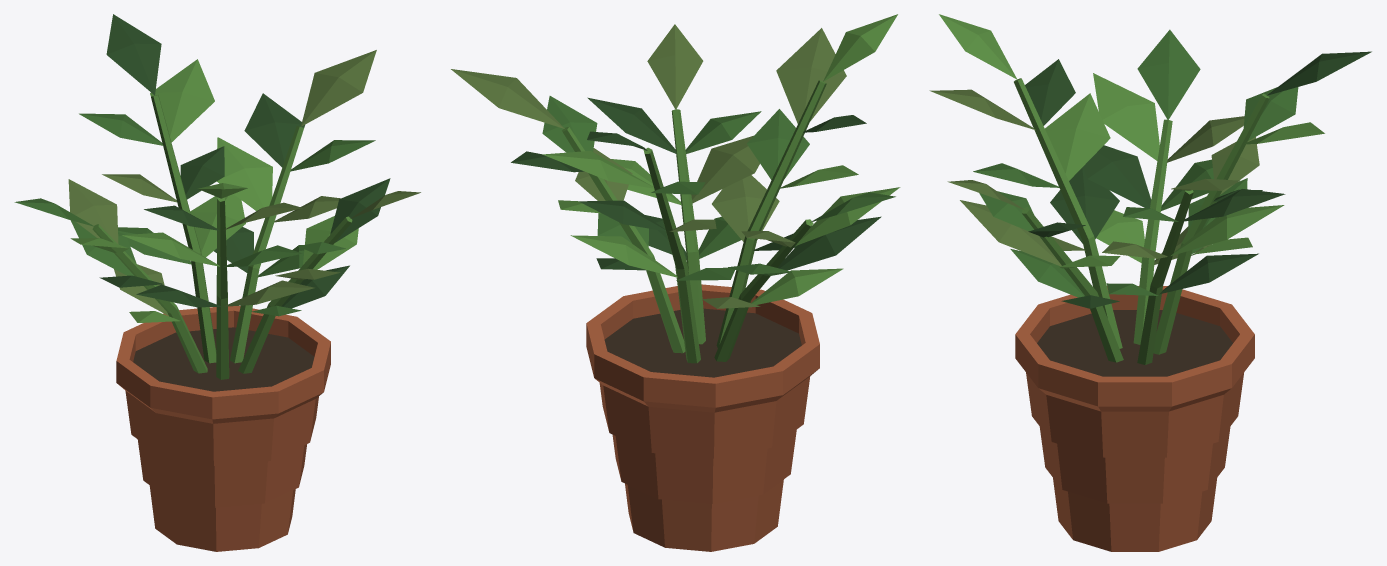
The model's file is mdvl_interiors_pottedplant_01.glb.
3 views of the same model, side by side, from view 1: azimuth 30°, elevation 25°; view 2: azimuth 150°, elevation 25°; view 3: azimuth 270°, elevation 25° (orthographic). The views are drawn at different scales.
Parts seen in each view (by area): view 1: mdvl_interiors_pottedplant_01; view 2: mdvl_interiors_pottedplant_01; view 3: mdvl_interiors_pottedplant_01.
Boxes of the visible parts, x1,y1,x2,y2 form: mdvl_interiors_pottedplant_01: (14,14,420,551); mdvl_interiors_pottedplant_01: (451,14,900,551); mdvl_interiors_pottedplant_01: (929,14,1371,551).
Bounding box in the file's own units: 0.7322 × 0.7792 × 0.6662.
1 material, 1 textured.
